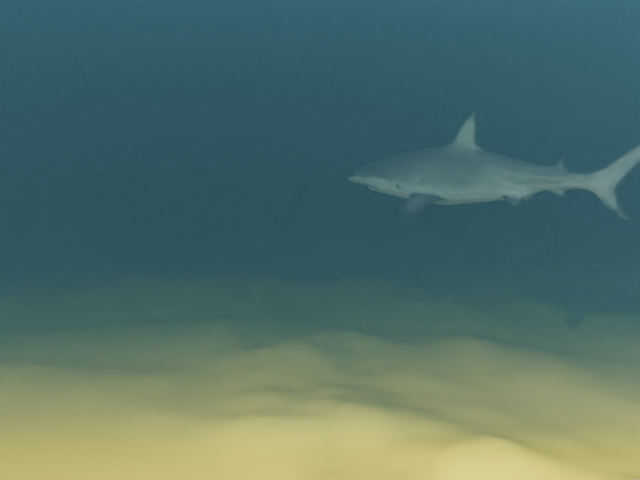Carribean Shark.001: (348, 111, 640, 220)
